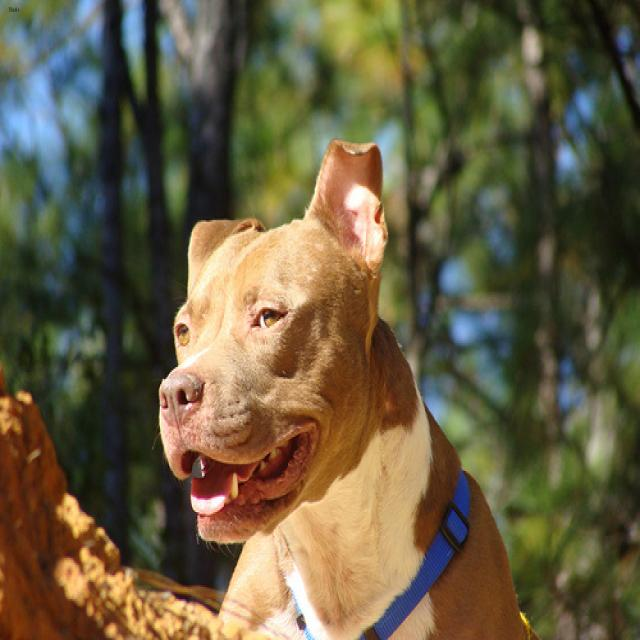dog-american_pit_bull_terrier: (147, 131, 544, 637)
